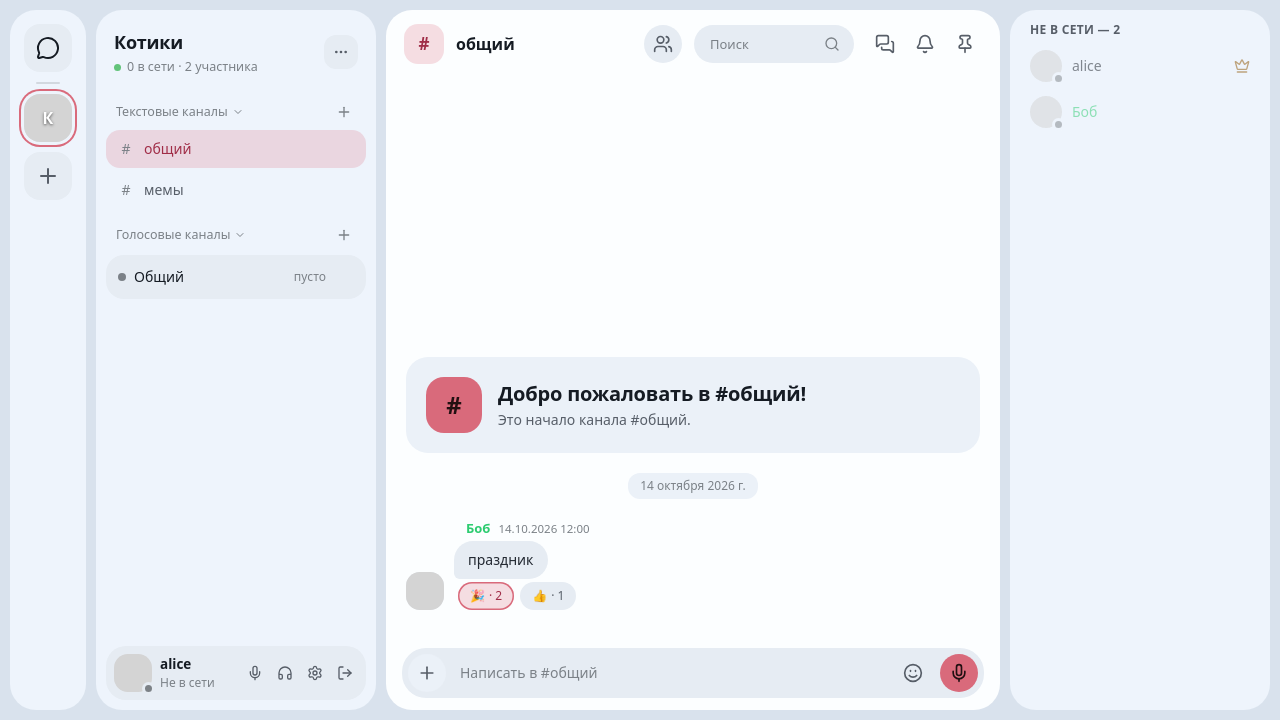
it: reactions › offers to take back a quick reaction I already gave
expect the text "праздник" is shown: met, box top-left (468, 550), bottom-right (534, 570)
Right-click the list item "праздник" at (498, 564), box top-left (406, 519), bottom-right (590, 610)
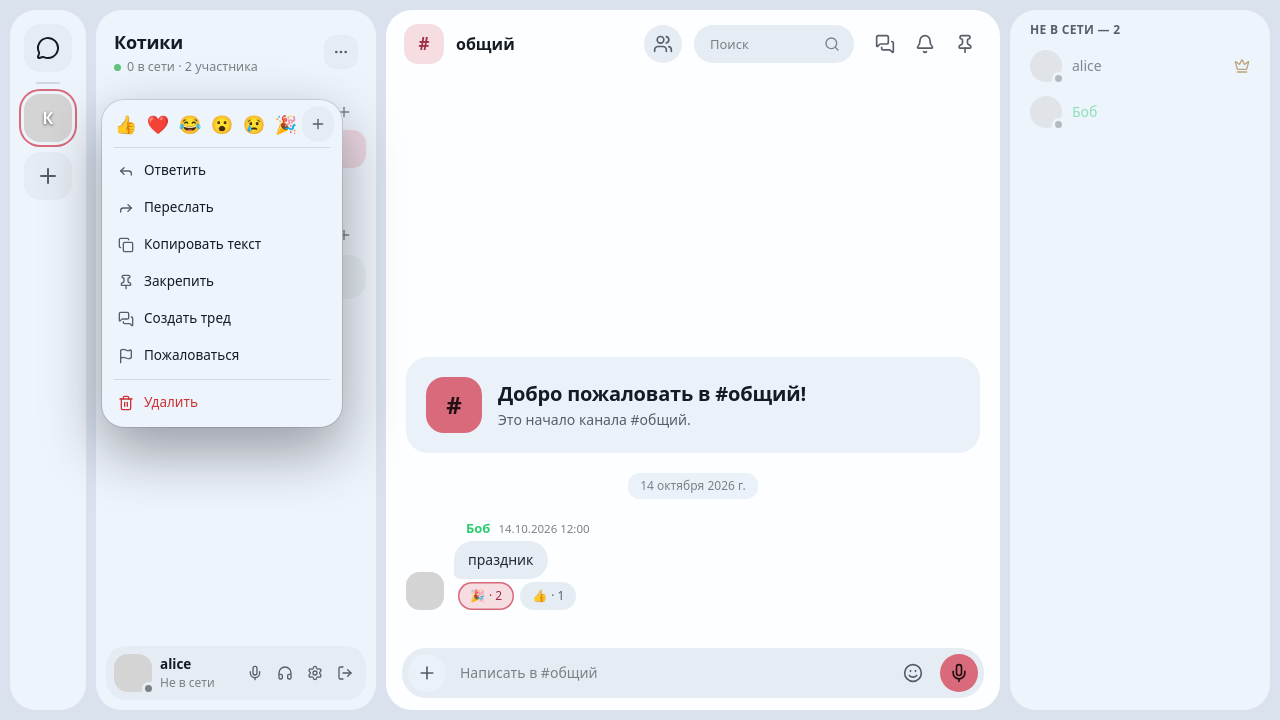
expect the menu item named "Убрать реакцию: 🎉" is shown: met, box top-left (275, 112), bottom-right (297, 136)
